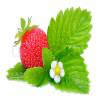Strawberry leaf: (46, 5, 93, 60), (51, 46, 91, 95), (24, 66, 47, 85), (42, 45, 54, 73)
